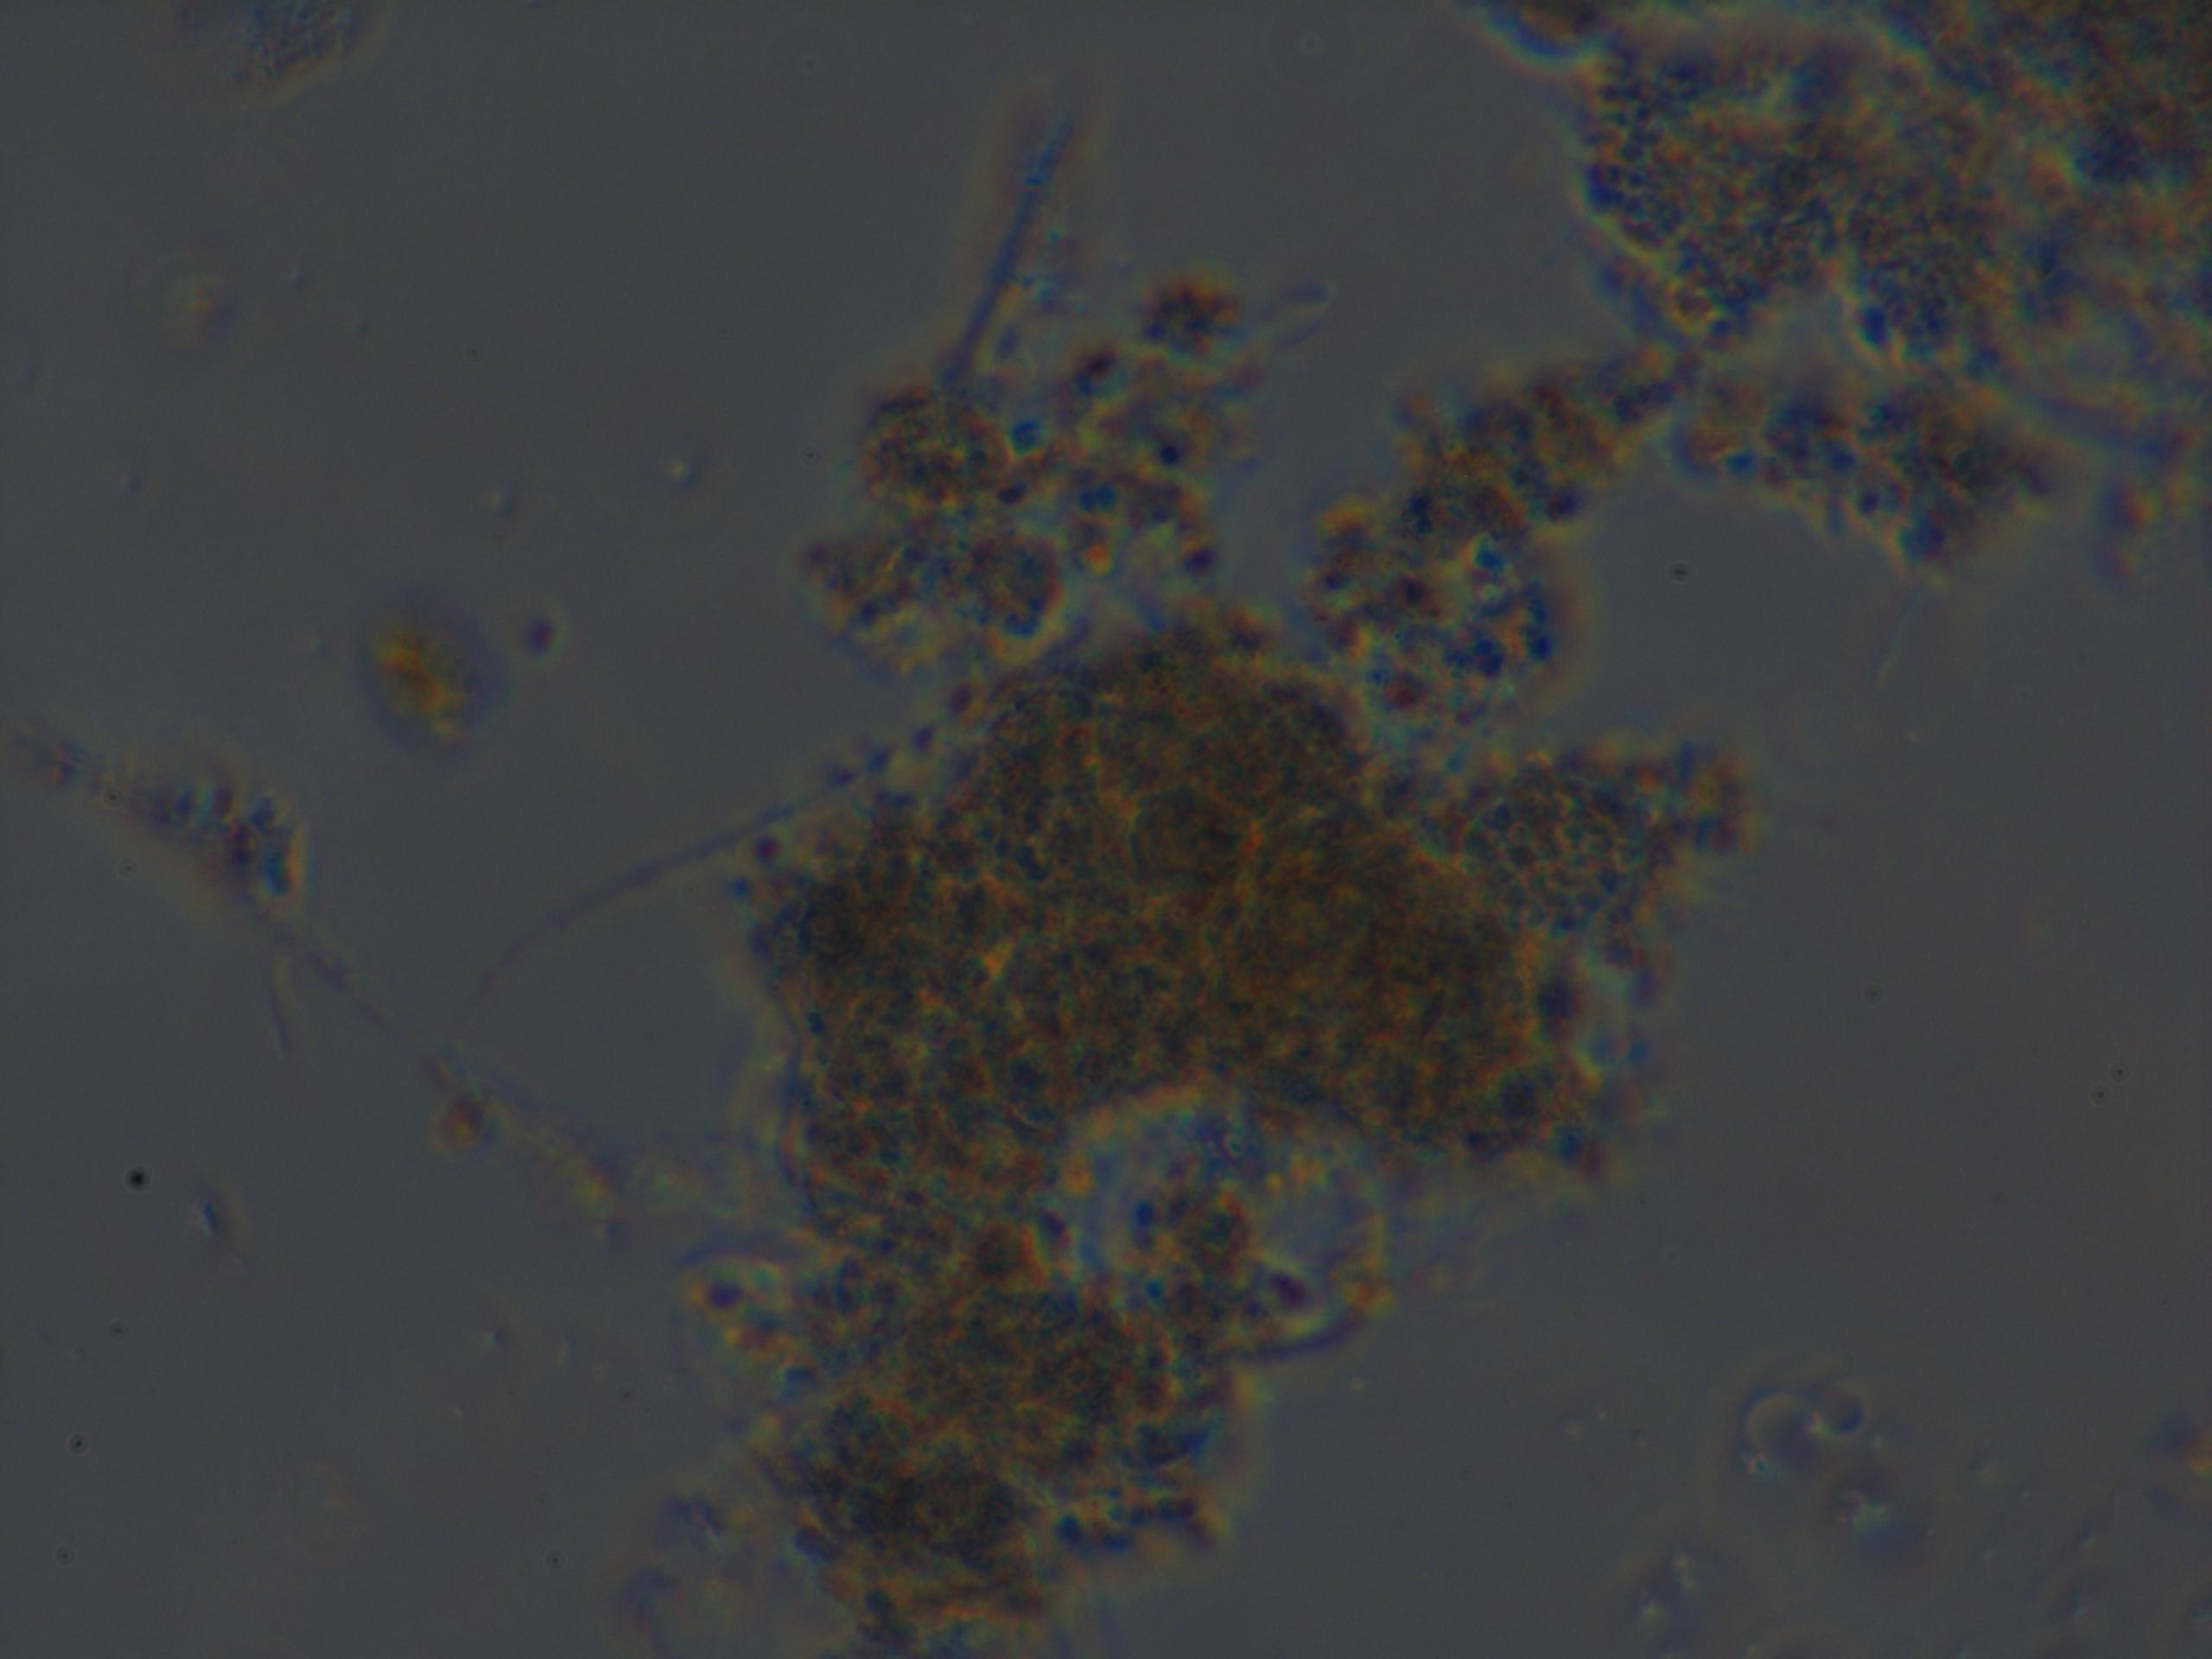filament: (85, 760, 641, 1241), (486, 701, 975, 889), (918, 94, 1094, 406)
